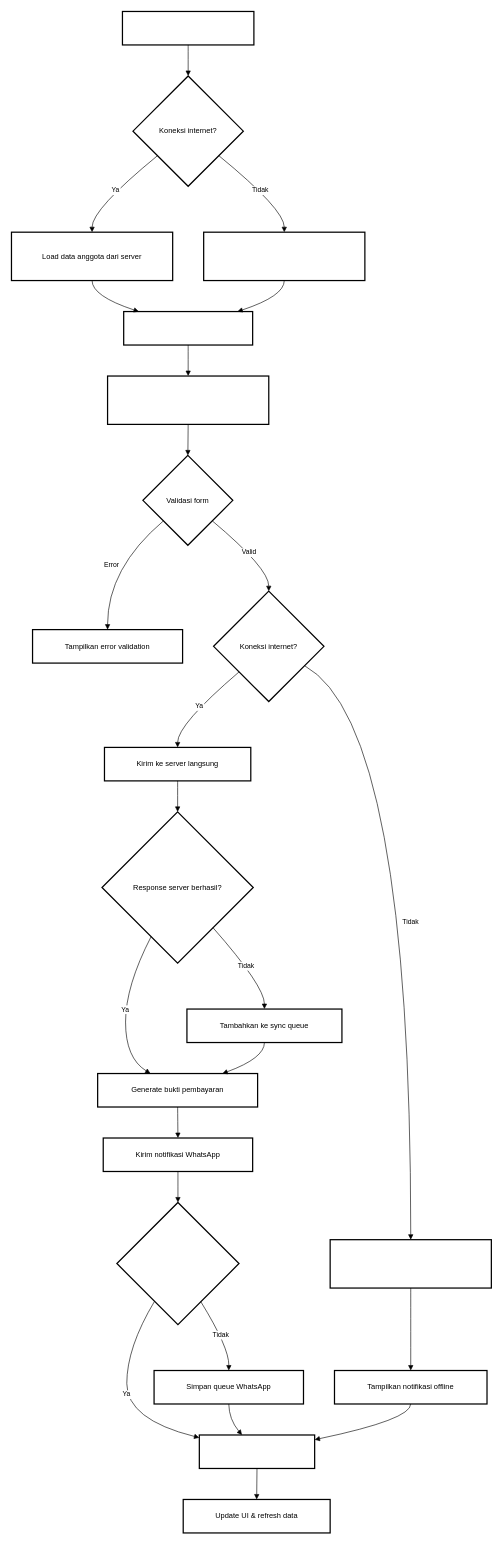
The diagram is 502 pixels wide and 1544 high, and some of its shapes have lost their labels. The centre of each missing label's shape, as x and y in pixels:
"Load data anggota dari IndexedDB" belongs at [284,256].
"Simpan ke IndexedDB + queue" belongs at [410,1263].
"Tampilkan form input" belongs at [188,328].
"Tampilkan sukses" belongs at [256,1451].
"User input data pembayaran" belongs at [188,400].
"User pilih menu Iuran" belongs at [188,28].
"WhatsApp berhasil?" belongs at [177,1263].
